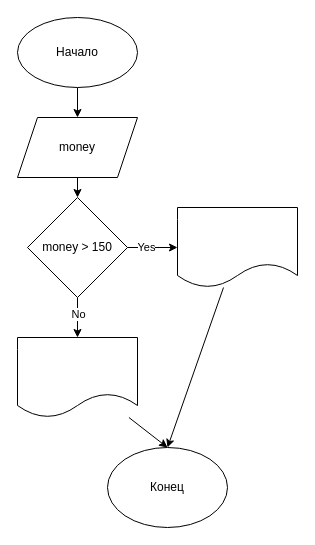
This 315x545 diagram has some shape labels left out. The shapes that lost their labels are listed below. From the top down, each one's box as (x1, y1, x2, y2) in pixels, then its label:
(176, 206, 298, 288): Rich
(16, 336, 138, 418): Poor
